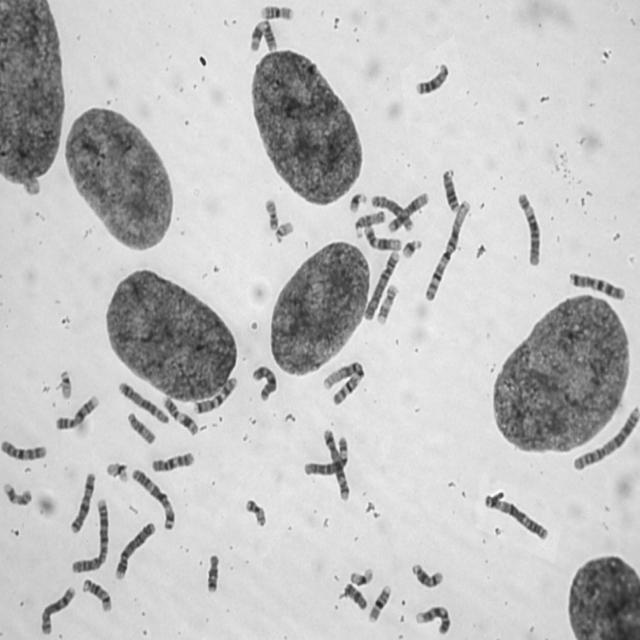A1: (422, 197, 472, 303), (321, 358, 366, 407)
A2: (570, 403, 639, 474), (70, 496, 110, 574)
A3: (482, 490, 550, 542), (130, 466, 176, 532)
B4: (361, 246, 402, 323), (112, 518, 156, 580)
B5: (116, 379, 170, 425), (320, 427, 350, 502)
C10: (0, 437, 49, 463), (148, 449, 194, 473)
C11: (160, 393, 200, 438), (247, 18, 279, 53)
C12: (385, 189, 430, 233), (362, 222, 402, 252)
C6: (301, 432, 350, 478), (515, 188, 543, 268)
C7: (566, 268, 627, 301), (192, 374, 238, 415)
C8: (37, 582, 76, 636), (369, 192, 415, 232)
C9: (53, 391, 100, 431), (413, 602, 452, 635)
D13: (412, 58, 450, 98), (440, 164, 461, 213)
D14: (80, 576, 113, 613), (409, 560, 445, 589)
D15: (125, 409, 156, 446), (352, 208, 387, 238)
E16: (366, 582, 392, 624), (258, 3, 294, 21)
E17: (374, 282, 398, 326), (2, 480, 34, 507)
E18: (341, 579, 368, 612), (204, 552, 221, 595)
F19: (104, 459, 130, 484), (347, 564, 375, 587)
F20: (245, 498, 266, 528), (263, 194, 279, 232)
G21: (400, 236, 423, 260), (346, 190, 368, 213)
G22: (56, 368, 74, 401), (273, 218, 295, 245)
X: (68, 469, 98, 535), (251, 362, 278, 401)
